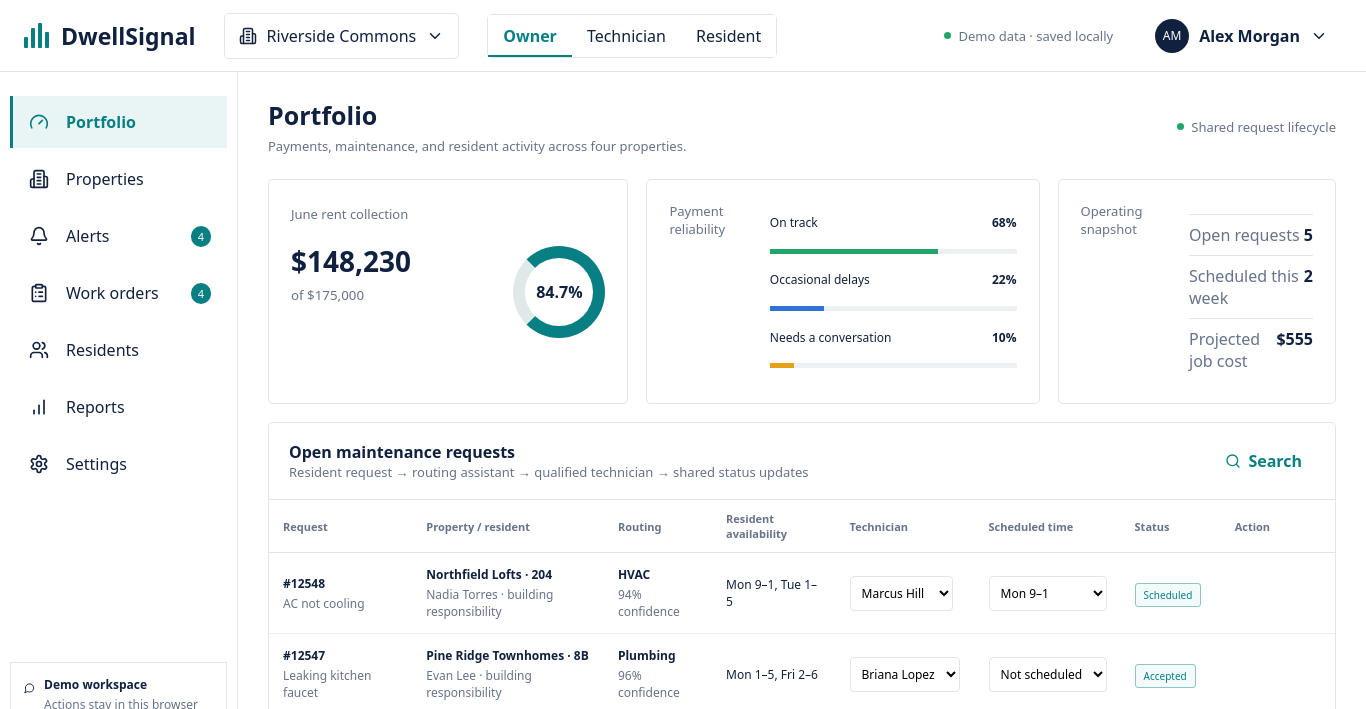
Test: DwellSignal › records a demo payment without moving money
Click the button "resident": (729, 36) [681, 14, 776, 56]
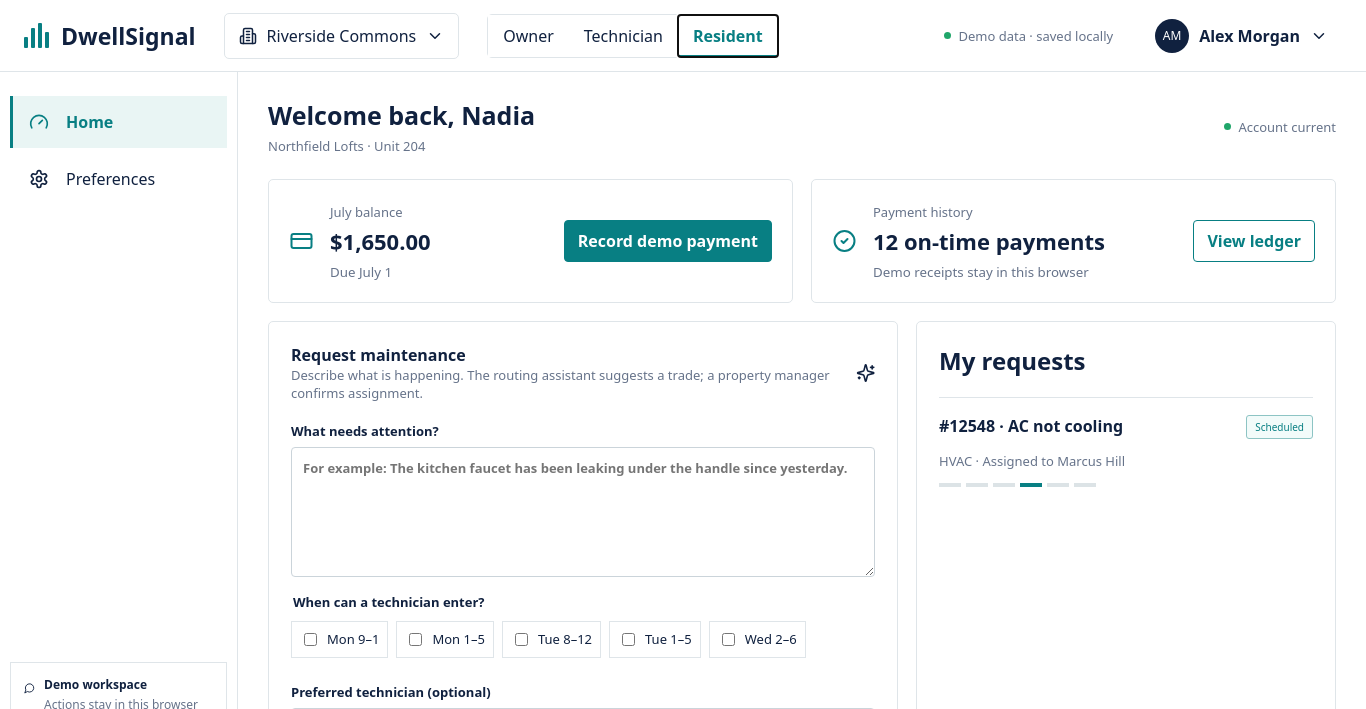
Click the button "Record demo payment": (668, 241) [564, 220, 772, 262]
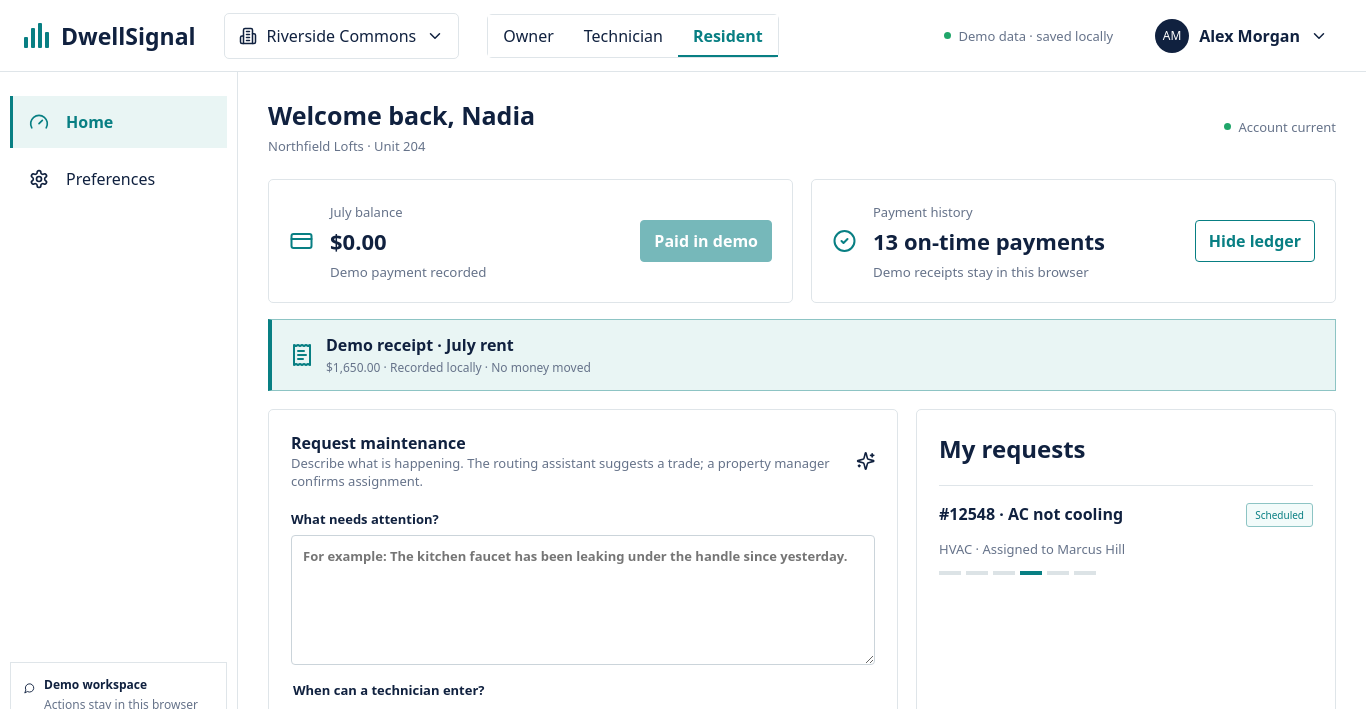
Expected: the text "$0.00" is shown, [330, 226, 387, 256]
Expected: the text "$1,650.00 · Recorded locally · No money moved" is shown, [326, 359, 591, 376]
